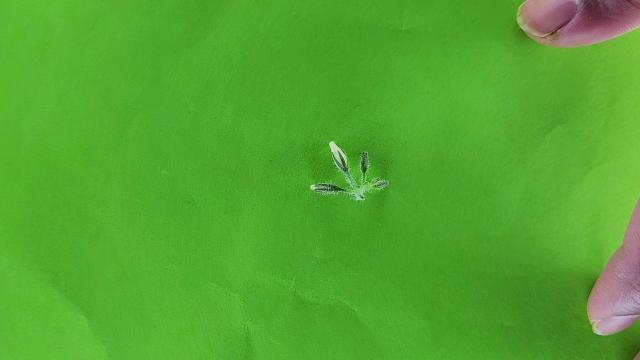Flower Bud: (329, 140, 351, 179), (310, 183, 342, 194), (360, 151, 369, 184)
